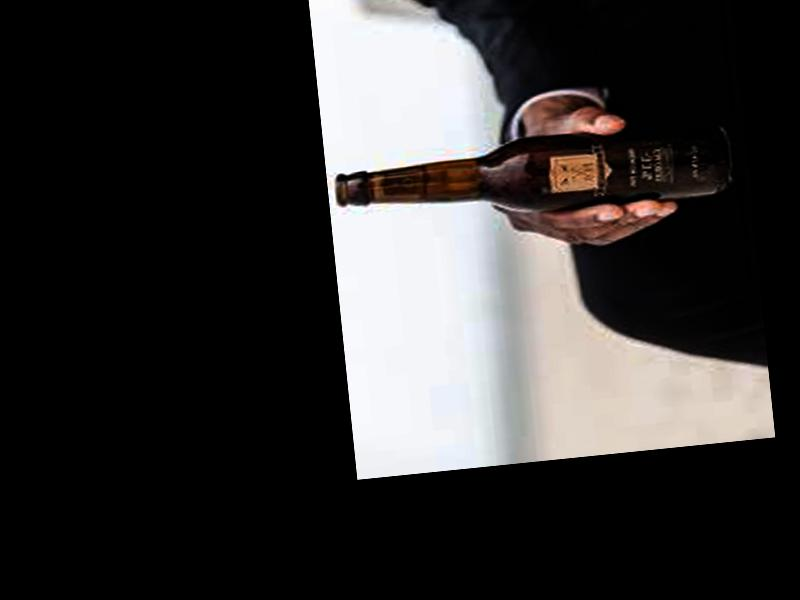Beer: (332, 120, 735, 234)
